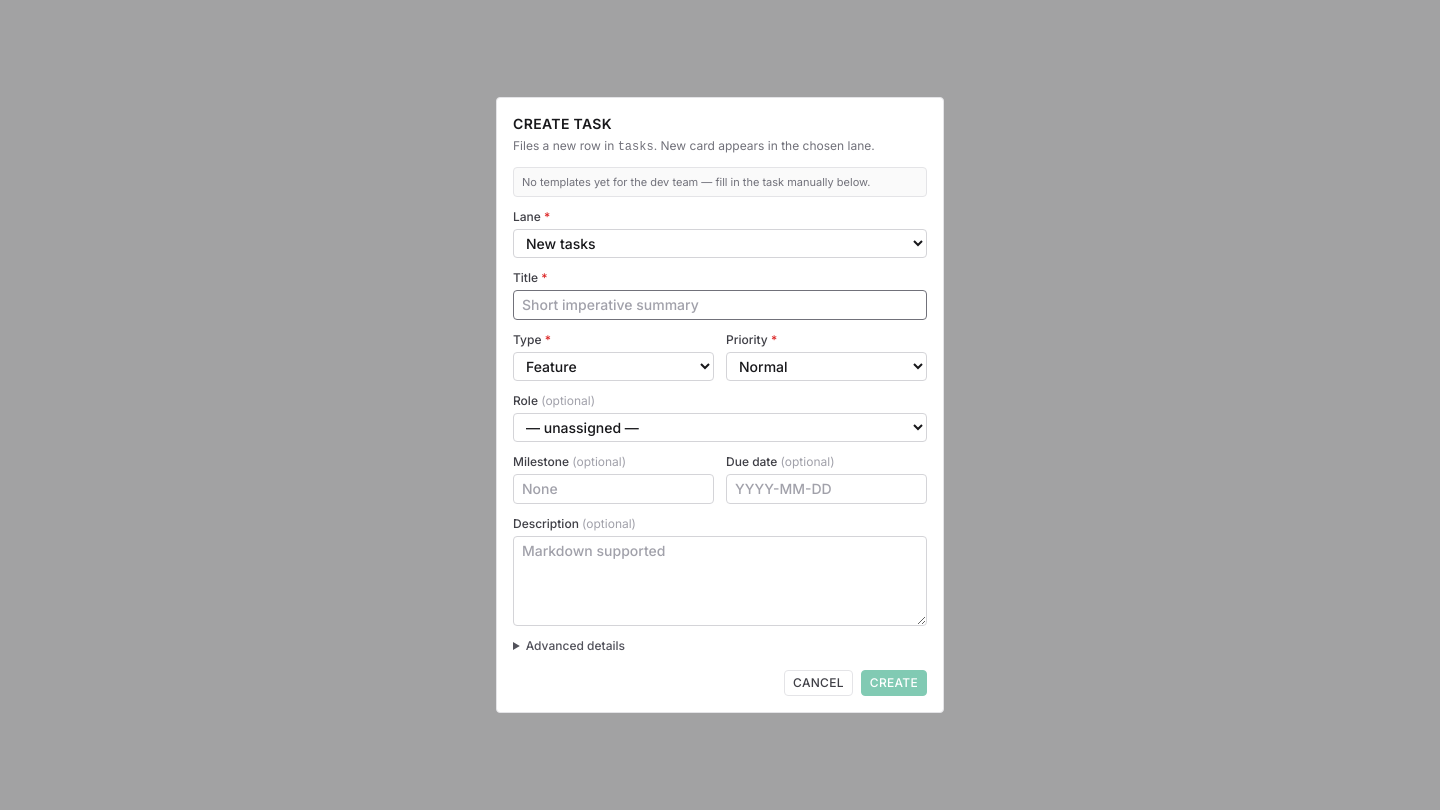
it: NewTaskModal — cost-forecast gate (#1304) › shows the confirm modal when the forecast exceeds the threshold
Type "Forecast me" into the field labelled "Title *" at (720, 305), box [513,290,927,320]
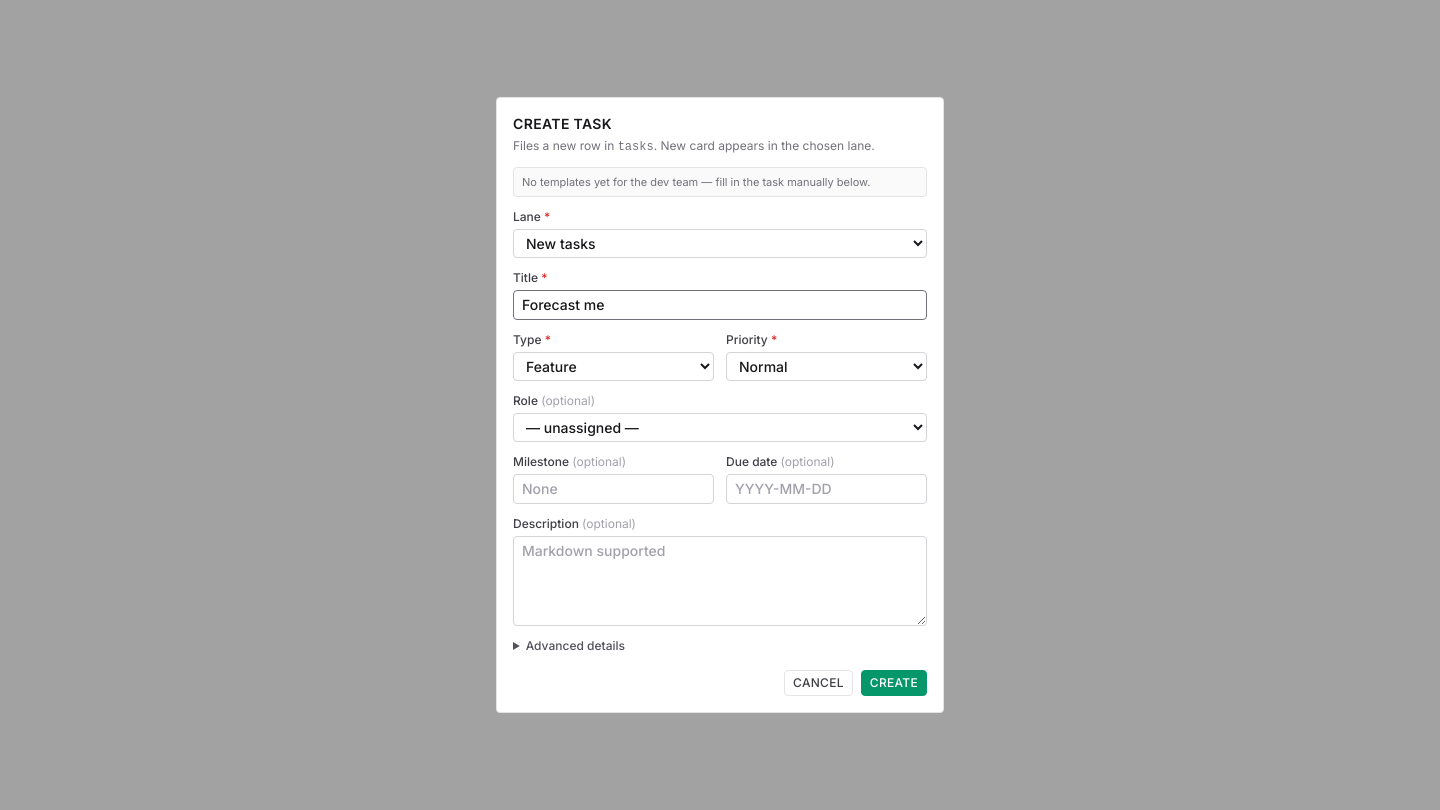
Click the button "Create" at (894, 683), box [861,670,927,696]
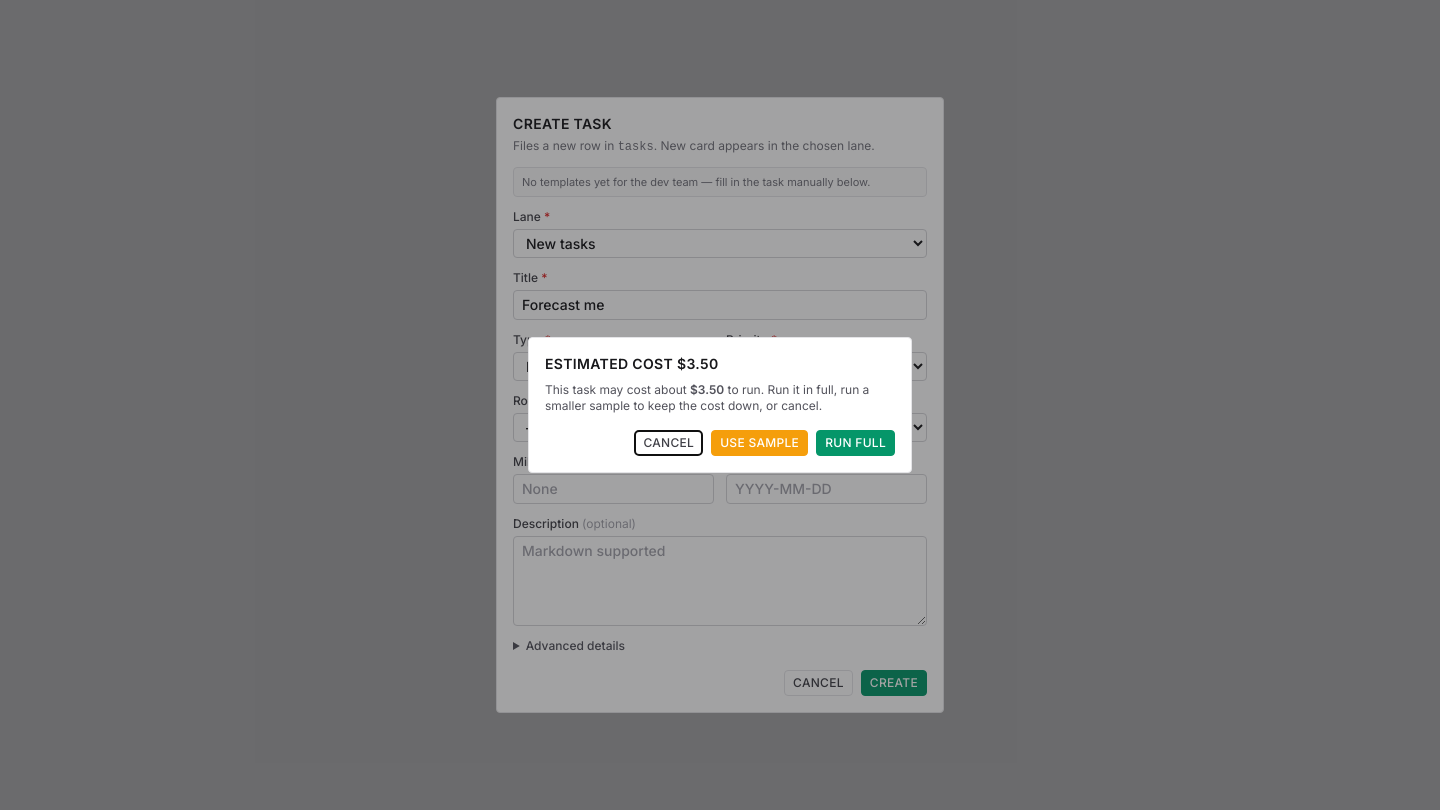
Expected: the heading "Estimated cost $3.50" is shown, [545,355,719,372]
Expected: the button "Run Full" is shown, [816,430,895,456]
Expected: the button "Use Sample" is shown, [711,430,808,456]
